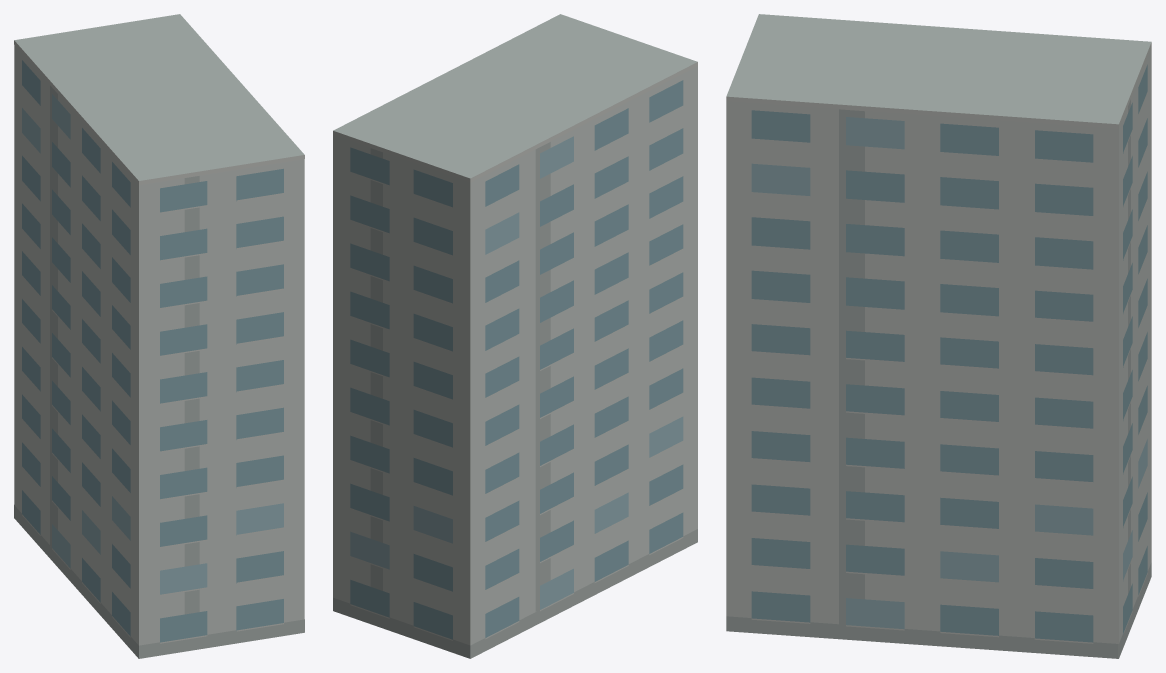
Rendered from residential-cae7c56a-0f40-422e-a7ab-377b8a752ad9.glb.
3 views of the same model, side by side, from view 1: azimuth 30°, elevation 25°; view 2: azimuth 150°, elevation 25°; view 3: azimuth 270°, elevation 25° (orthographic). The views are drawn at different scales.
Parts seen in each view (by area): view 1: residential-cae7c56a-0f40-422e-a7ab-377b8a752ad9.tmp; view 2: residential-cae7c56a-0f40-422e-a7ab-377b8a752ad9.tmp; view 3: residential-cae7c56a-0f40-422e-a7ab-377b8a752ad9.tmp.
Boxes of the visible parts, left/top/right/bottom form: residential-cae7c56a-0f40-422e-a7ab-377b8a752ad9.tmp: left=14, top=14, right=304, bottom=658; residential-cae7c56a-0f40-422e-a7ab-377b8a752ad9.tmp: left=333, top=14, right=697, bottom=658; residential-cae7c56a-0f40-422e-a7ab-377b8a752ad9.tmp: left=726, top=14, right=1151, bottom=658.
Size of the model in its own units: 11.96 by 27 by 19.48.
